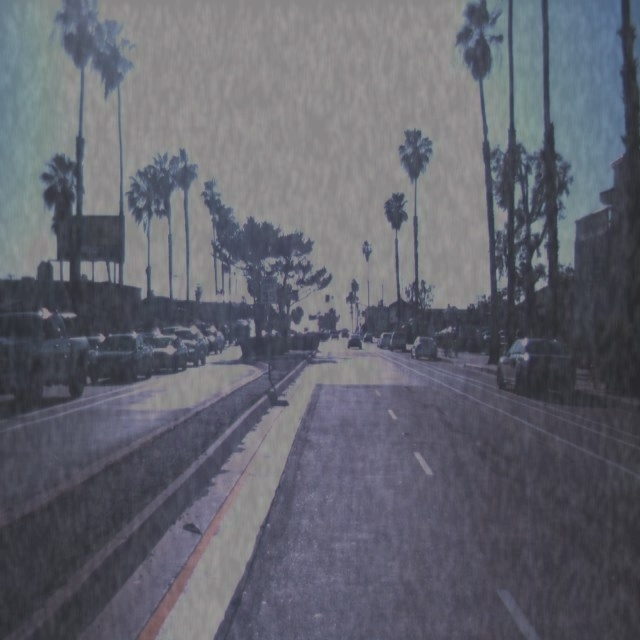go: (324, 287, 332, 304), (380, 311, 386, 324), (344, 292, 349, 305)
go traffic light: (324, 287, 332, 304), (380, 311, 386, 324), (344, 292, 349, 305)
